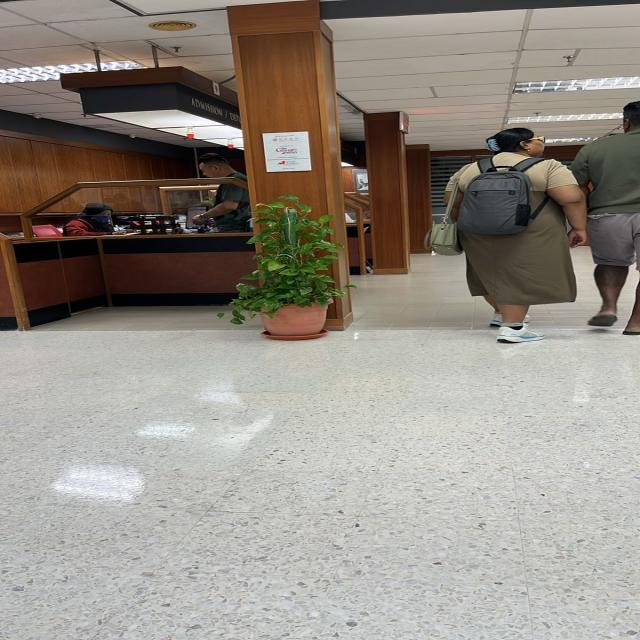Person: (436, 119, 592, 350), (189, 147, 256, 239)
